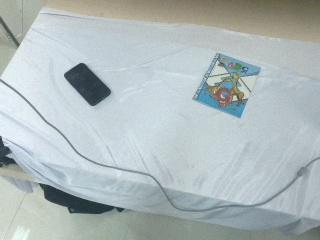book: (192, 52, 262, 119)
phone: (64, 63, 111, 107)
